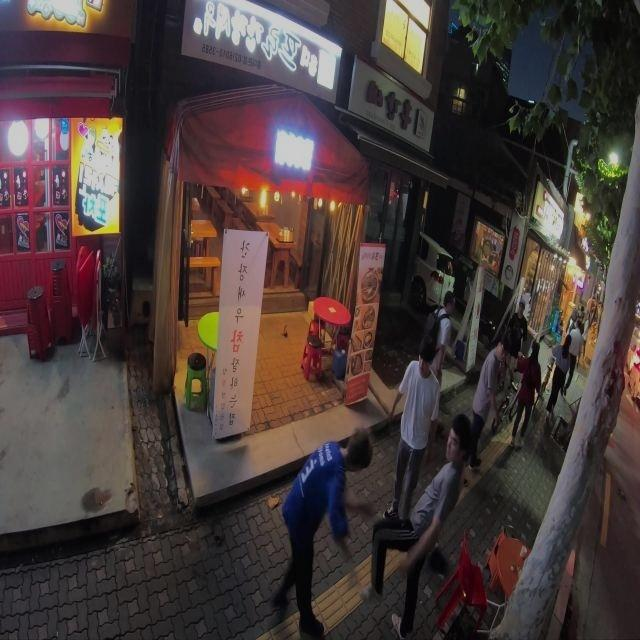fight: (273, 407, 470, 639)
non-fight: (389, 335, 441, 527), (467, 334, 510, 466), (508, 335, 540, 447)
